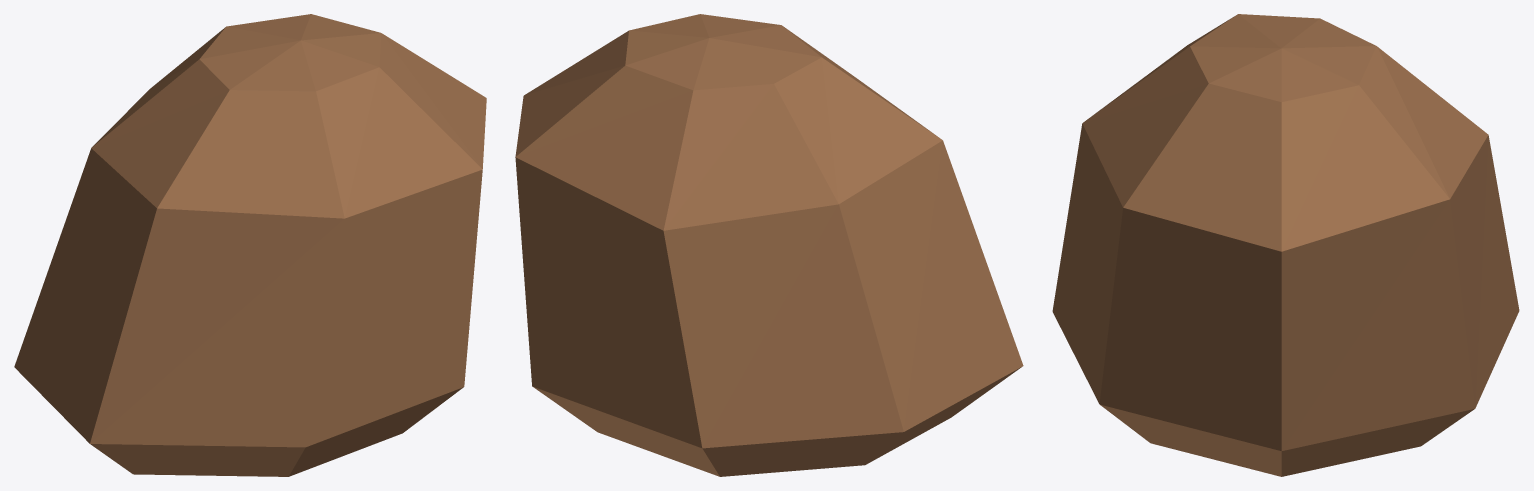
3 views of the same model, side by side, from view 1: azimuth 30°, elevation 25°; view 2: azimuth 150°, elevation 25°; view 3: azimuth 270°, elevation 25° (orthographic). The views are drawn at different scales.
Visible parts, largest first — view 1: R05_厚身砂岩; view 2: R05_厚身砂岩; view 3: R05_厚身砂岩.
Part boxes in pixels (box(x1,y1,x2,y2)): R05_厚身砂岩: box(14, 14, 486, 476); R05_厚身砂岩: box(515, 14, 1023, 476); R05_厚身砂岩: box(1052, 14, 1519, 476).
Bounding box in the file's own units: 0.9529 × 0.7245 × 0.8183.
